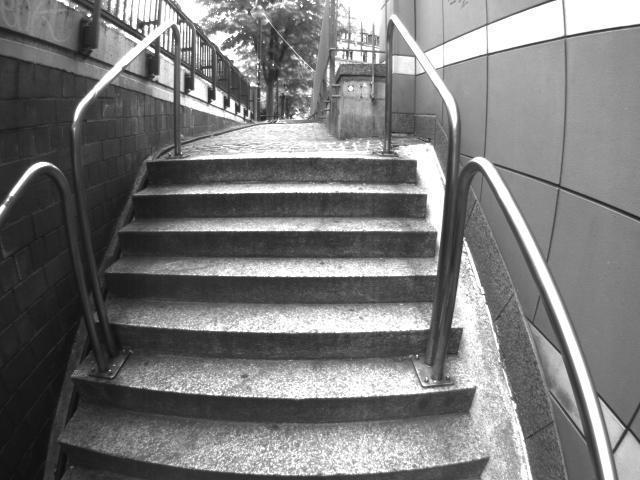Escaleras: (82, 153, 493, 479)
